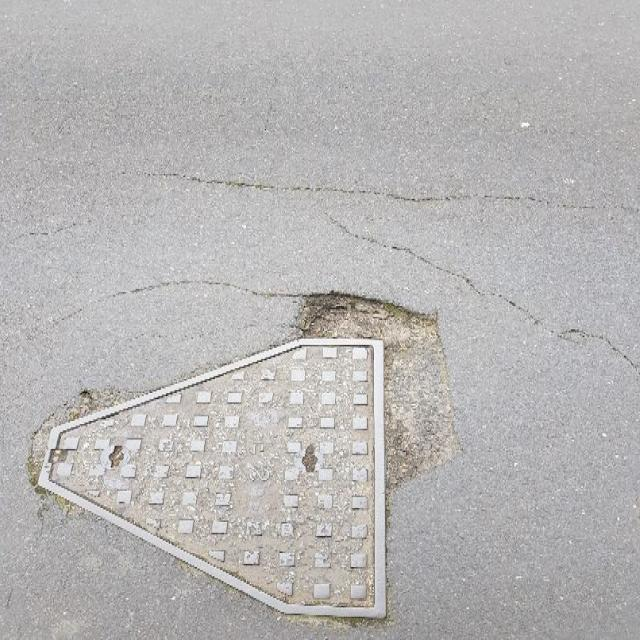pothole: (294, 281, 462, 494)
